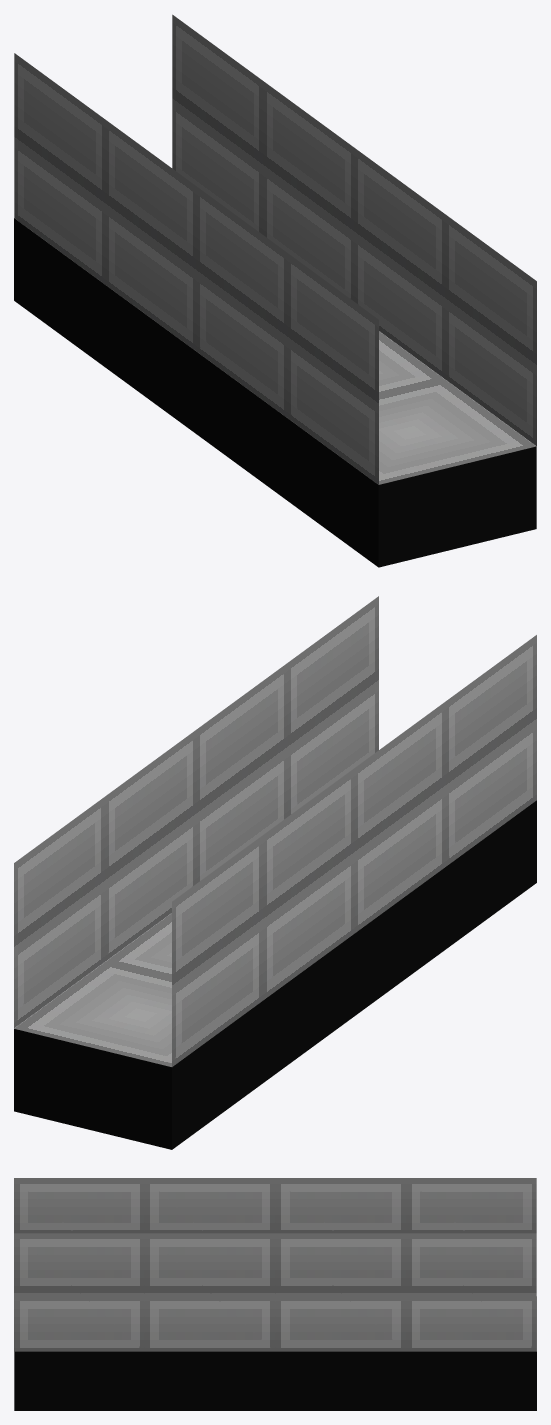
Rendered from Straightconnect.gltf.
3 renders of one model, top to bottom at view 1: azimuth 30°, elevation 25°; view 2: azimuth 150°, elevation 25°; view 3: azimuth 270°, elevation 25°, orthographic. The views are drawn at different scales.
Parts seen in each view (by area): view 1: Cube.604; view 2: Cube.604; view 3: Cube.604.
Part boxes in pixels (x1,y1,x2,y2): Cube.604: (14,14,536,567); Cube.604: (14,596,536,1149); Cube.604: (14,1178,536,1410).
Bounding box in the file's own units: 2 × 3 × 8.
2 materials, 1 textured.
